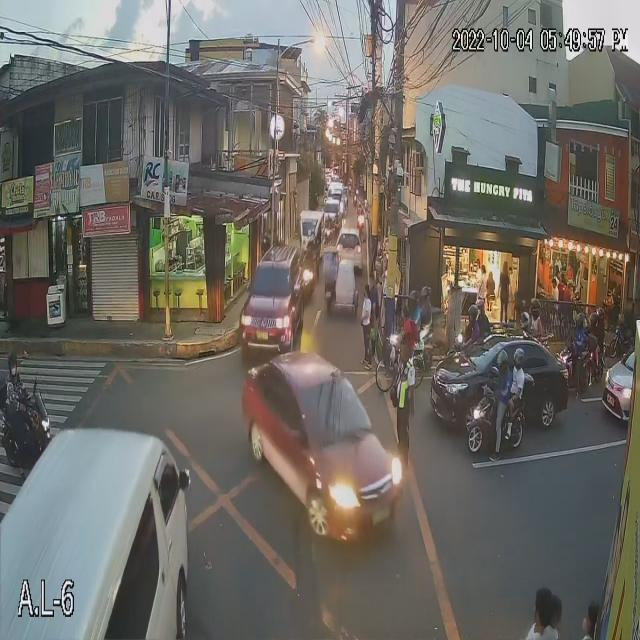helmet: (5, 352, 22, 379), (488, 353, 512, 371), (466, 305, 482, 327), (473, 297, 492, 315), (406, 292, 418, 311), (419, 286, 434, 300), (514, 349, 524, 366), (596, 305, 605, 321), (577, 310, 583, 332), (589, 313, 598, 325)
motorcycle: (470, 382, 535, 473), (0, 386, 59, 471), (558, 339, 595, 388), (356, 213, 367, 236)
rider: (2, 339, 37, 426), (494, 342, 510, 426), (569, 310, 587, 362), (511, 343, 524, 413), (462, 308, 479, 353), (475, 294, 491, 338), (406, 287, 419, 338), (593, 303, 608, 342), (586, 310, 599, 351), (422, 281, 432, 324), (354, 196, 365, 220)
